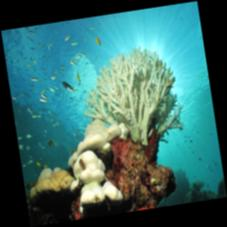bleached_corals: (78, 35, 180, 146)
